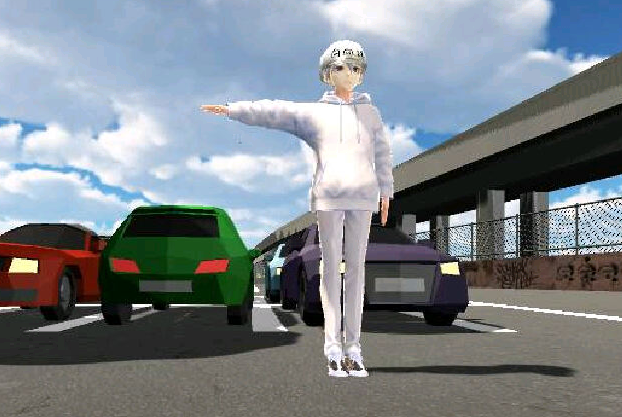singleP_left: (195, 38, 389, 381)
